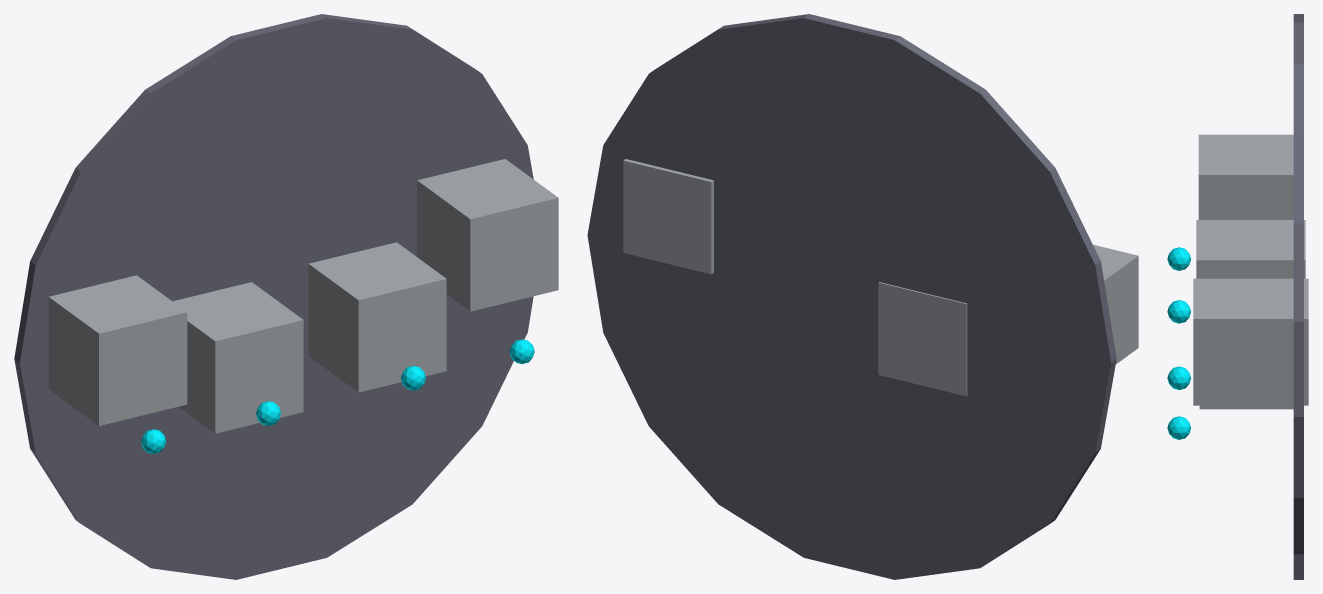
The model's file is 02_local_prop_cluster.glb.
The picture shows the model from 3 angles, left to right: view 1: azimuth 30°, elevation 25°; view 2: azimuth 150°, elevation 25°; view 3: azimuth 270°, elevation 25°; orthographic projection. The views are drawn at different scales.
Visible parts, largest first — view 1: scatter_base, tech_crate_0, tech_crate_3, tech_crate_2, tech_crate_1; view 2: scatter_base, tech_crate_3, tech_crate_1, tech_crate_0; view 3: tech_crate_3, tech_crate_0, scatter_base, tech_crate_1, tech_crate_2, status_light_1, status_light_0, status_light_2, status_light_3.
Part boxes in pixels (bbox=[...]): scatter_base: bbox=[14, 14, 533, 579]; tech_crate_0: bbox=[48, 275, 187, 425]; tech_crate_3: bbox=[417, 159, 558, 311]; tech_crate_2: bbox=[308, 242, 446, 392]; tech_crate_1: bbox=[173, 282, 303, 433]; scatter_base: bbox=[587, 14, 1116, 579]; tech_crate_3: bbox=[623, 159, 713, 274]; tech_crate_1: bbox=[878, 282, 967, 396]; tech_crate_0: bbox=[1093, 244, 1138, 364]; tech_crate_3: bbox=[1193, 278, 1308, 405]; tech_crate_0: bbox=[1198, 134, 1293, 219]; scatter_base: bbox=[1293, 14, 1303, 579]; tech_crate_1: bbox=[1196, 220, 1305, 278]; tech_crate_2: bbox=[1199, 405, 1293, 409]; status_light_1: bbox=[1167, 300, 1190, 323]; status_light_0: bbox=[1167, 247, 1190, 270]; status_light_2: bbox=[1167, 366, 1191, 389]; status_light_3: bbox=[1167, 416, 1190, 439].
Bounding box in the file's own units: 1.9 × 1.87 × 0.4726.
